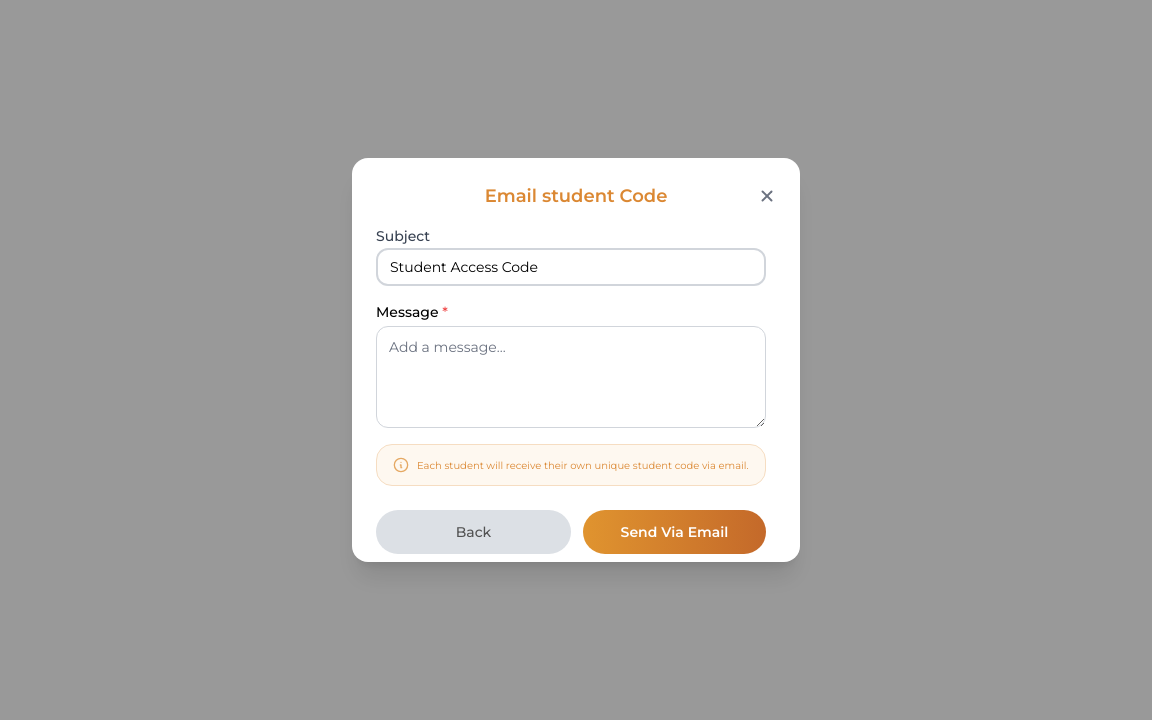
Scenario: BulkEmailAccessCodeModal › clears validation error when message is typed
The width and height of the screenshot is (1152, 720).
Click the button "Send Via Email".
click(674, 532)  # box top-left (583, 510), bottom-right (766, 554)
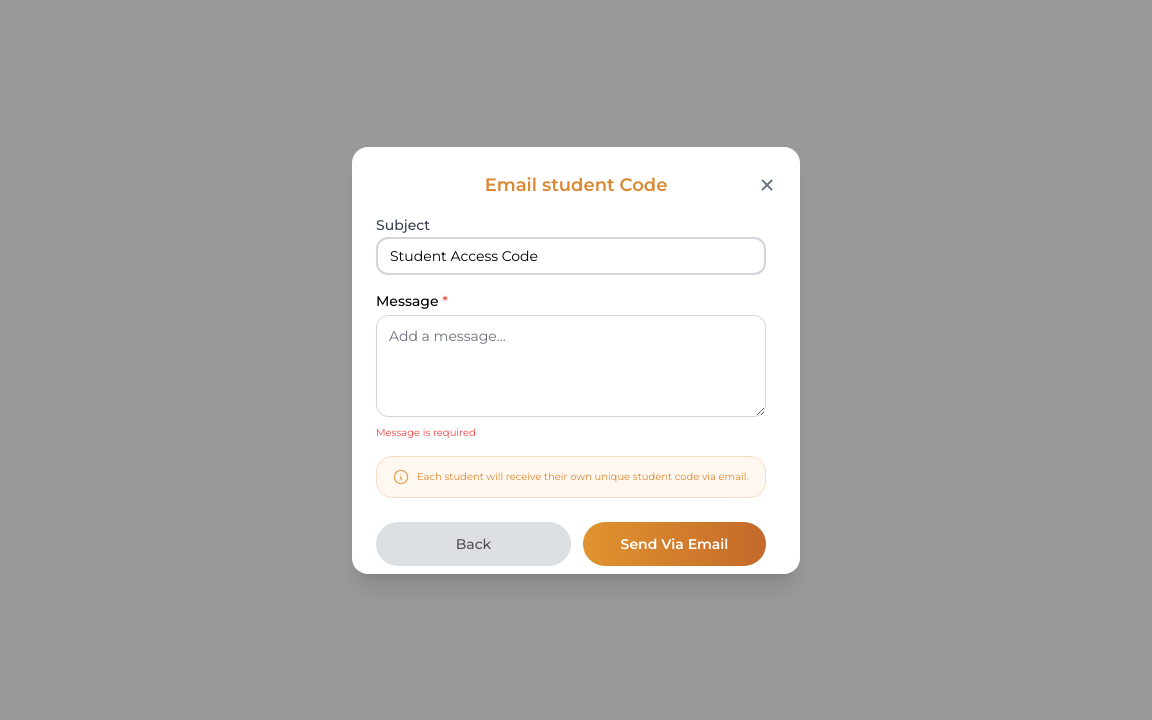
Expected: the text "Message is required" is shown, top-left (376, 426), bottom-right (476, 438)
Type "Hello" into the text box with placeholder "Add a message...".
click(571, 366); type("Hello")  # box top-left (376, 314), bottom-right (766, 416)
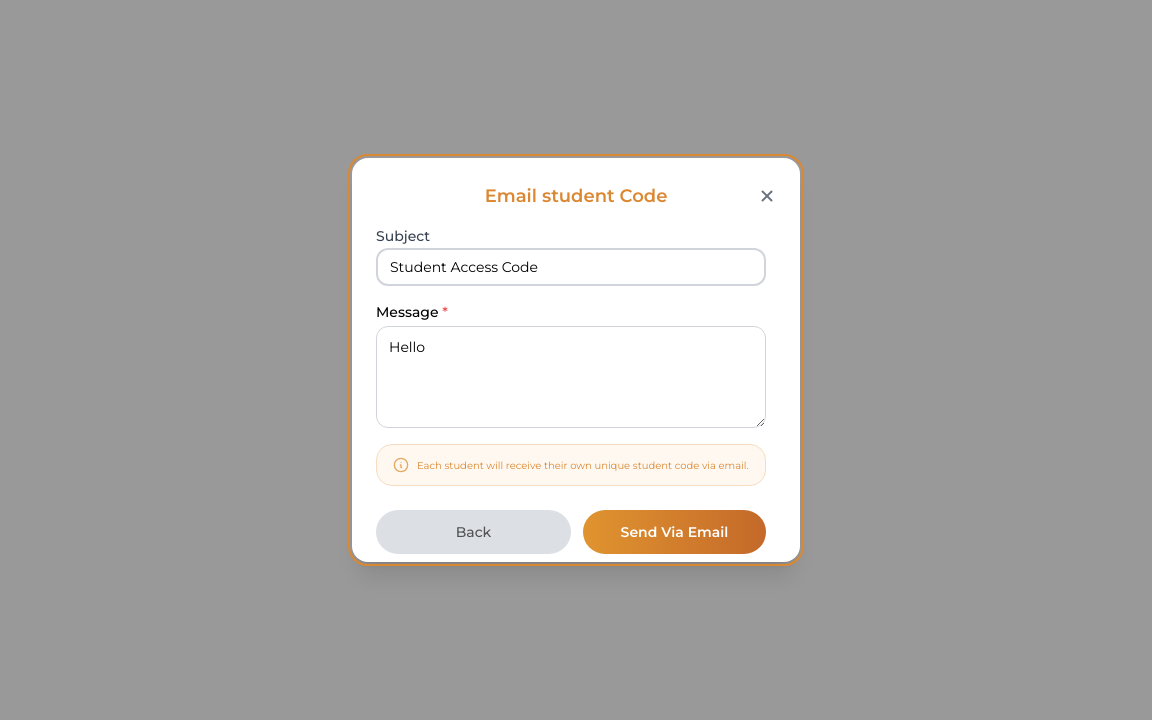
Expected: the text "Message is required" is gone
